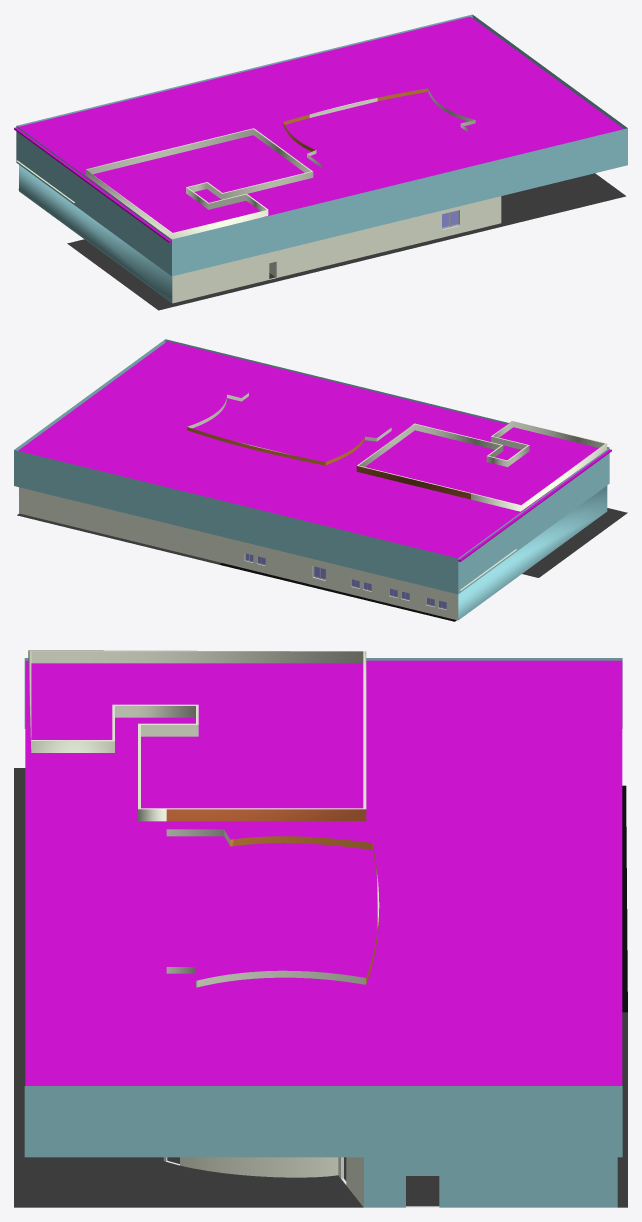
File: laval-virtuel_v3.fbx
3 renders of one model, top to bottom at view 1: azimuth 30°, elevation 25°; view 2: azimuth 150°, elevation 25°; view 3: azimuth 270°, elevation 25°, orthographic. The views are drawn at different scales.
Visible parts, largest first — view 1: plafond, 2eme_etage_verre, 1ere_etage, Sol; view 2: plafond, 2eme_etage_verre, 1ere_etage, Sol; view 3: plafond, 2eme_etage_verre, 1ere_etage, Sol.
Boxes of the visible parts, x1=… form: plafond: x1=14, y1=16, x2=623, y2=242; 2eme_etage_verre: x1=16, y1=14, x2=627, y2=276; 1ere_etage: x1=19, y1=88, x2=501, y2=303; Sol: x1=18, y1=173, x2=625, y2=310; plafond: x1=18, y1=341, x2=611, y2=561; 2eme_etage_verre: x1=14, y1=339, x2=609, y2=594; 1ere_etage: x1=19, y1=393, x2=607, y2=620; Sol: x1=17, y1=508, x2=627, y2=621; plafond: x1=25, y1=660, x2=622, y2=1085; 2eme_etage_verre: x1=24, y1=658, x2=622, y2=1157; 1ere_etage: x1=28, y1=650, x2=617, y2=1207; Sol: x1=14, y1=768, x2=627, y2=1207.
Bounding box in the file's own units: 6315 × 891 × 3696.
